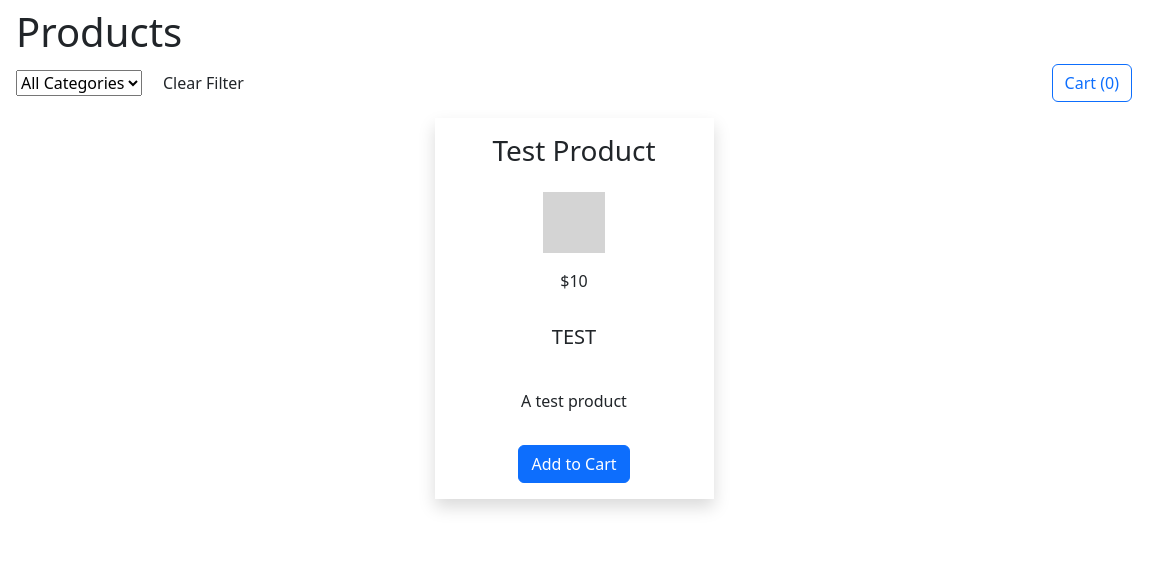
Test: Integration: Add to Cart flow › adds product to cart, updates Cart count, and shows item/totals on Cart page
expect the heading "Test Product" is shown: met, box [492,134,656,168]
expect the link "Cart (0)" is shown: met, box [1052,64,1132,102]
// Click Add to Cart on ProductCard
Click the button "Add to Cart": (574, 464) [518,445,630,483]
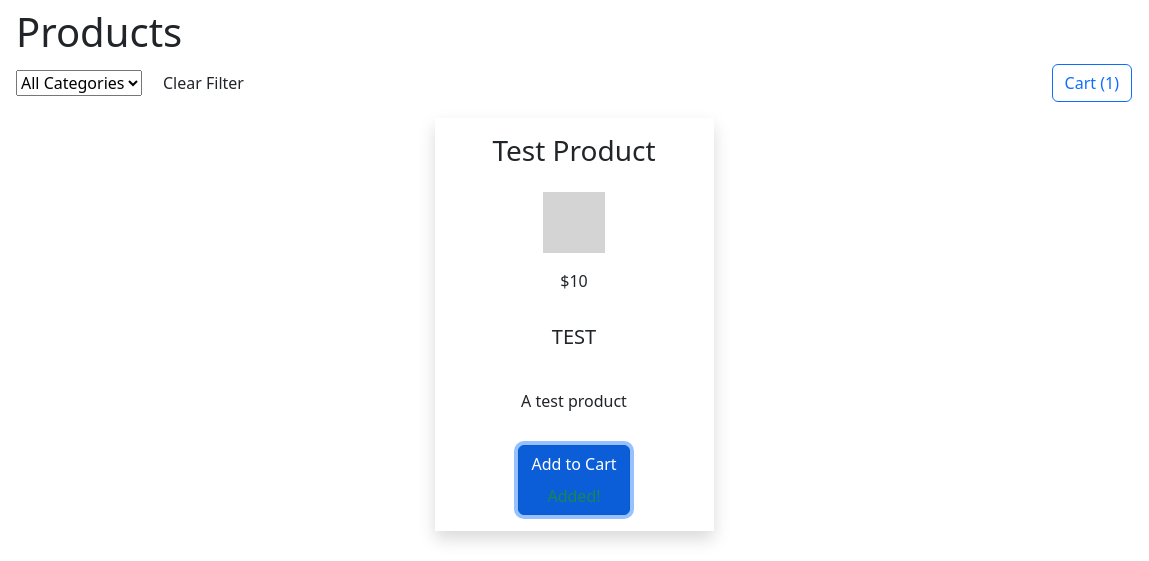
expect the link "Cart (1)" is shown: met
// Navigate to cart page
Click the link "Cart (1)": (1092, 83) [1052,64,1132,102]
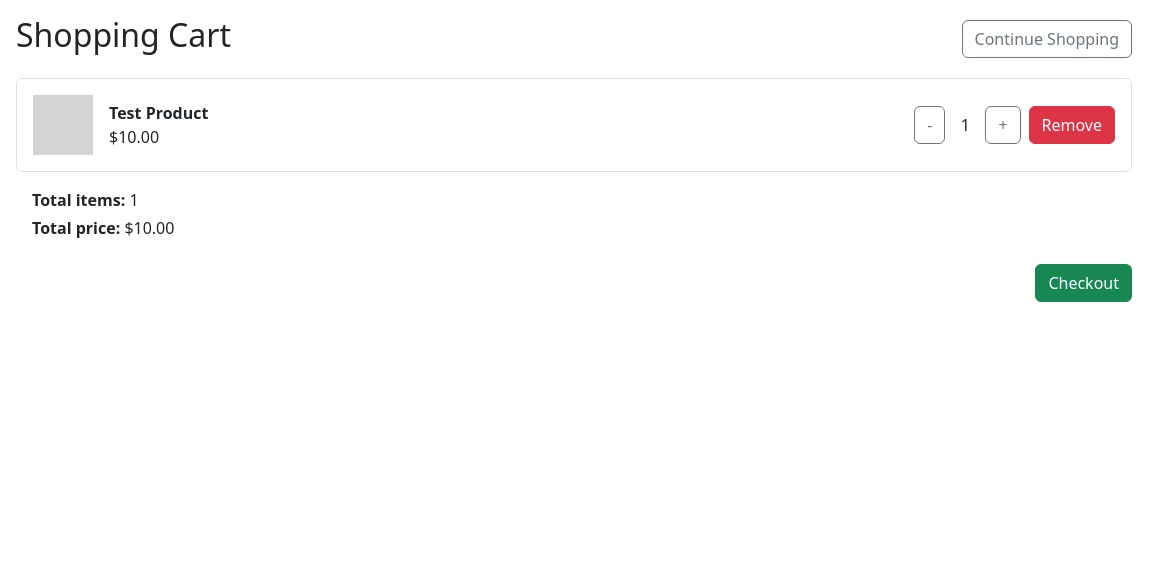
expect the heading "Shopping Cart" is shown: met, box [16,16,231,54]
expect the text "Total items: 1" is shown: met, box [32,189,138,211]
expect the text "Total price: $10.00" is shown: met, box [32,217,174,239]
